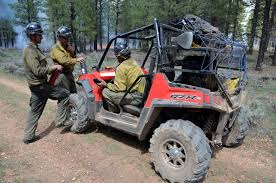Person: (24, 21, 73, 139), (105, 42, 143, 110)
Vehicle: (76, 18, 252, 180)
